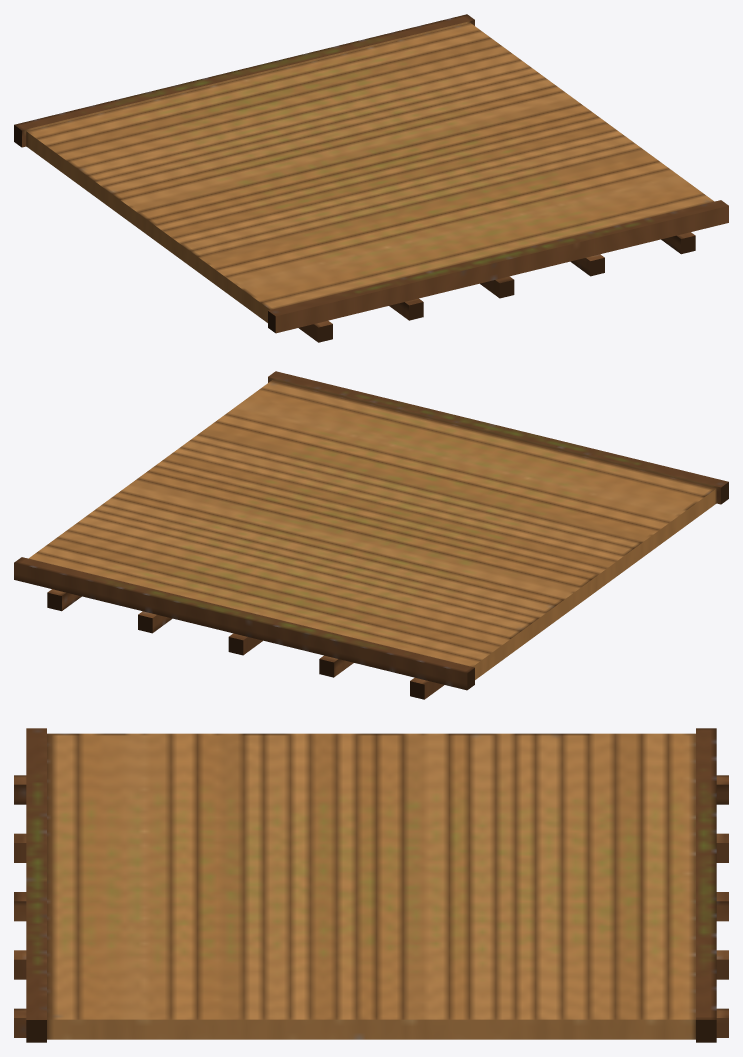
The model's file is Kit_House_Floor.fbx.
The picture shows the model from 3 angles, top to bottom: view 1: azimuth 30°, elevation 25°; view 2: azimuth 150°, elevation 25°; view 3: azimuth 270°, elevation 25°; orthographic projection. The views are drawn at different scales.
Parts seen in each view (by area): view 1: Kit_House_Floor_LOD0; view 2: Kit_House_Floor_LOD0; view 3: Kit_House_Floor_LOD0.
Part boxes in pixels (bbox=[...]): Kit_House_Floor_LOD0: bbox=[14, 14, 728, 342]; Kit_House_Floor_LOD0: bbox=[14, 371, 728, 699]; Kit_House_Floor_LOD0: bbox=[14, 728, 728, 1042].
Size of what is drawn, in the model's own units: 5 by 0.34 by 5.18.
Materials: 1 (1 with a texture image).
